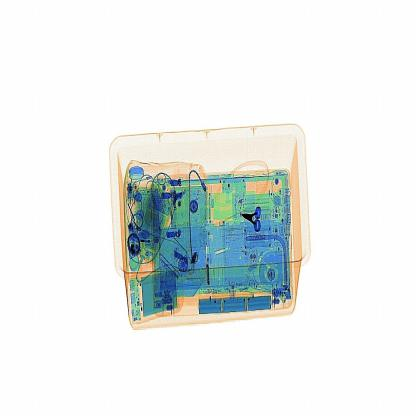gun: (237, 199, 267, 242)
